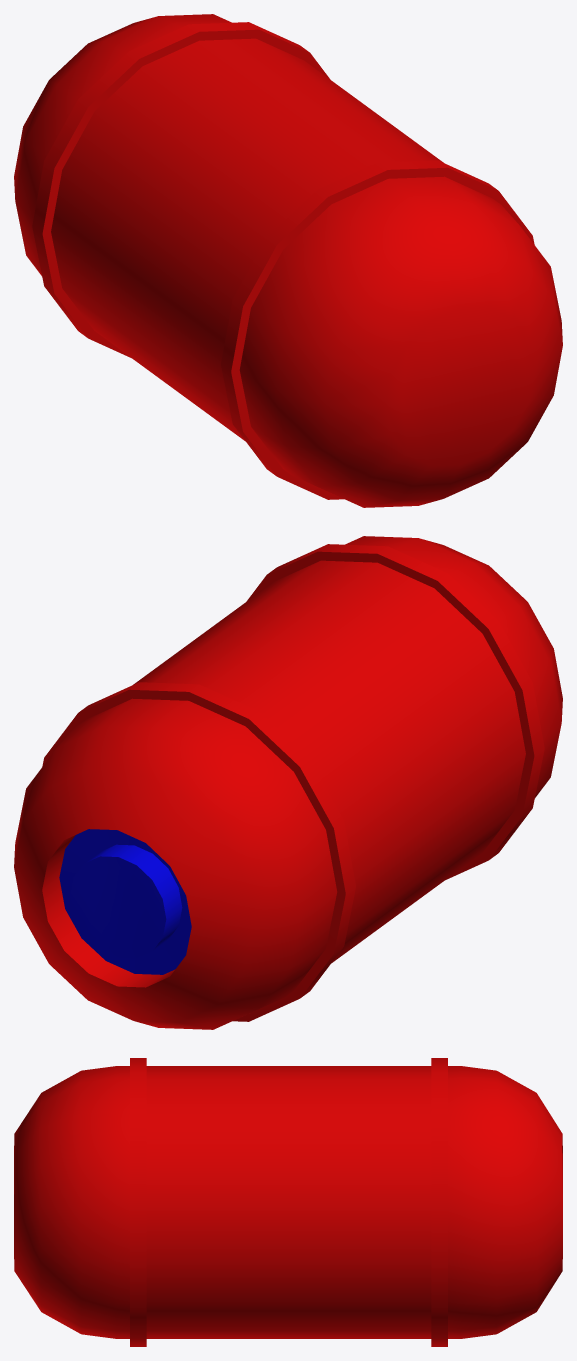
The model's file is waterCanister.fbx.
3 renders of one model, top to bottom at view 1: azimuth 30°, elevation 25°; view 2: azimuth 150°, elevation 25°; view 3: azimuth 270°, elevation 25°, orthographic. The views are drawn at different scales.
Parts seen in each view (by area): view 1: Cylinder.001; view 2: Cylinder.001; view 3: Cylinder.001.
Boxes of the visible parts, left/top/right/bottom form: Cylinder.001: left=14, top=14, right=562, bottom=507; Cylinder.001: left=14, top=536, right=562, bottom=1029; Cylinder.001: left=14, top=1058, right=562, bottom=1346.
Size of the model in its own units: 11.33 by 11.31 by 21.5.
